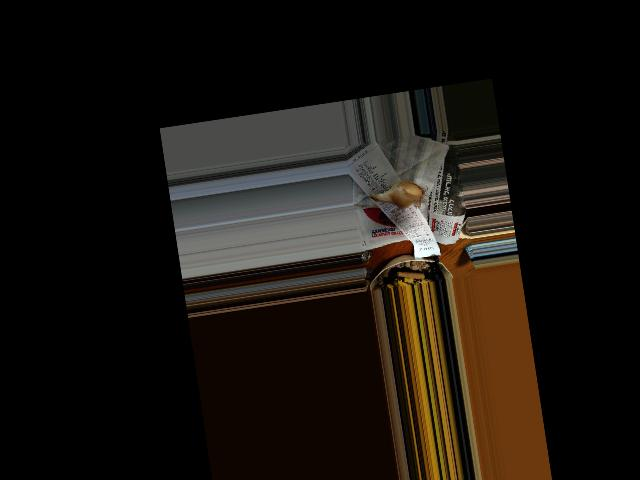onion: (374, 177, 426, 213)
